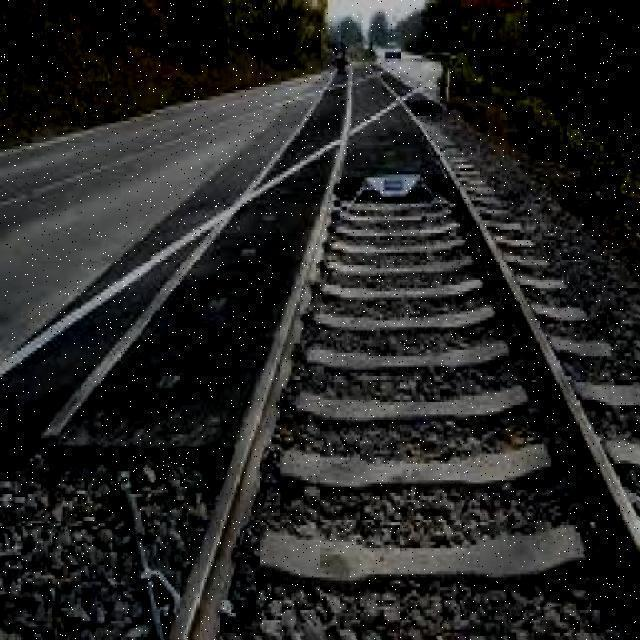rail: (153, 89, 640, 640)
